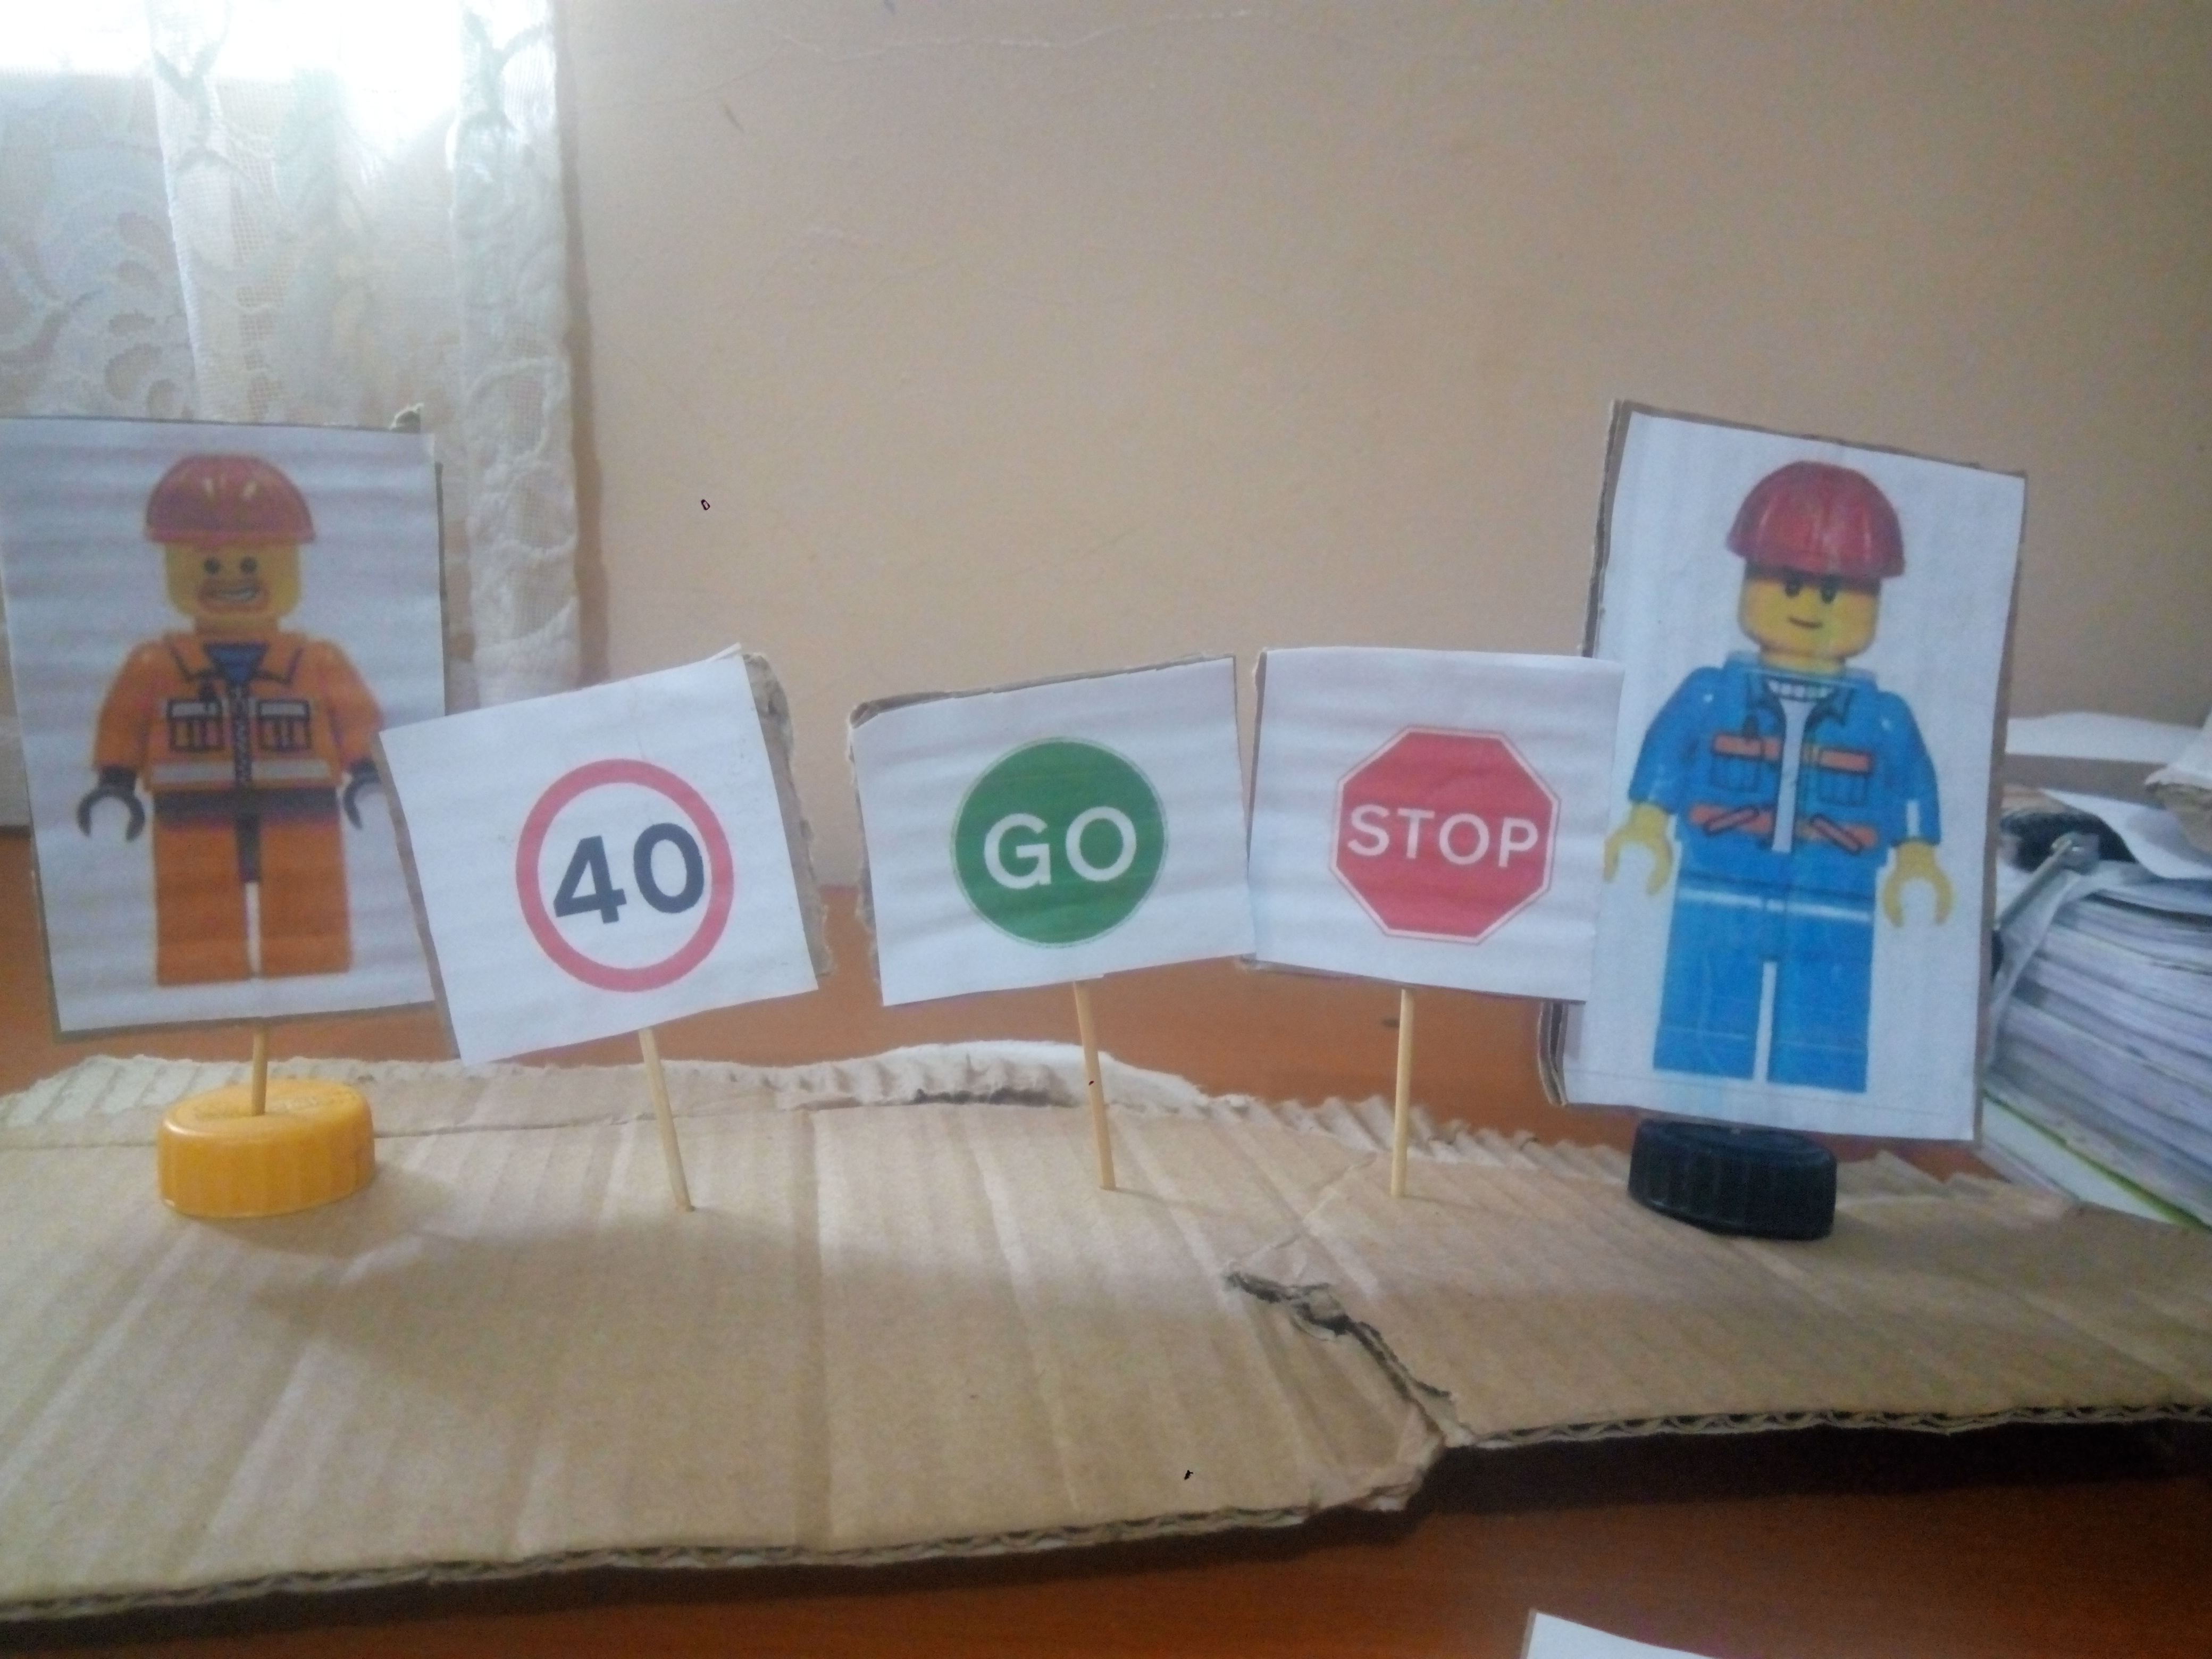40kph: (487, 731, 752, 1005)
go: (946, 728, 1202, 944)
pedestrian: (1632, 441, 1962, 1127), (53, 433, 396, 1002)
stop: (1313, 705, 1595, 984)
